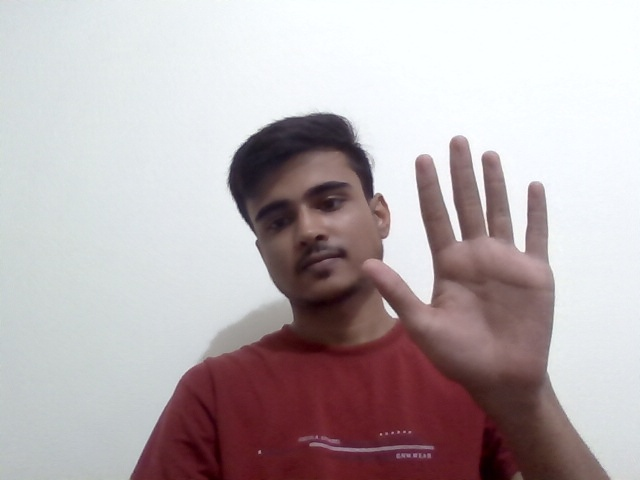Hello: (328, 113, 606, 433)
